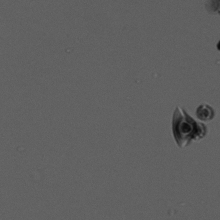Dead Cell: (174, 116, 197, 141), (196, 102, 215, 121), (195, 121, 206, 138)
